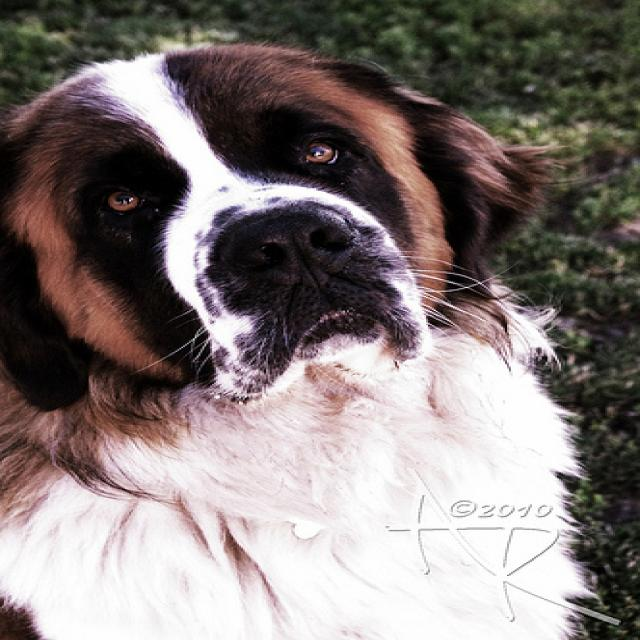dog-saint_bernard: (2, 38, 605, 637)
